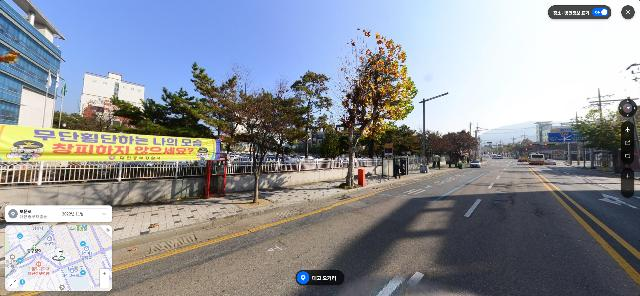other: (190, 59, 312, 204), (333, 27, 419, 187), (291, 70, 333, 159), (143, 88, 215, 138), (443, 129, 477, 168)
